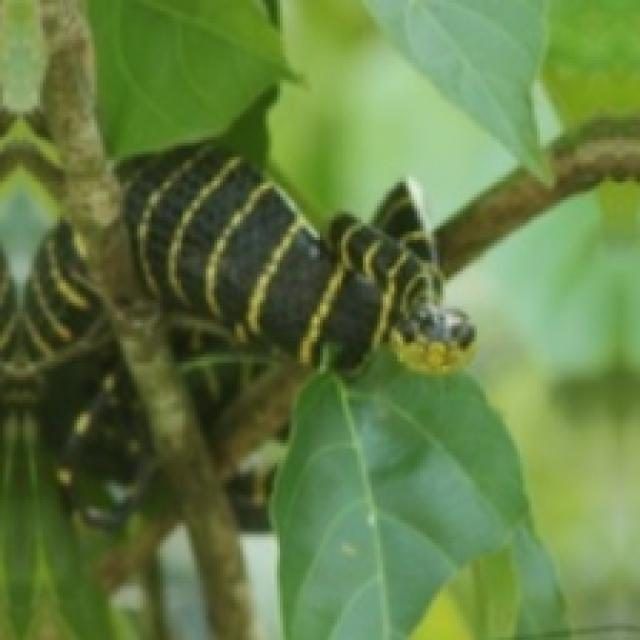mangrove cat snake: (117, 143, 471, 483), (0, 220, 154, 526)
